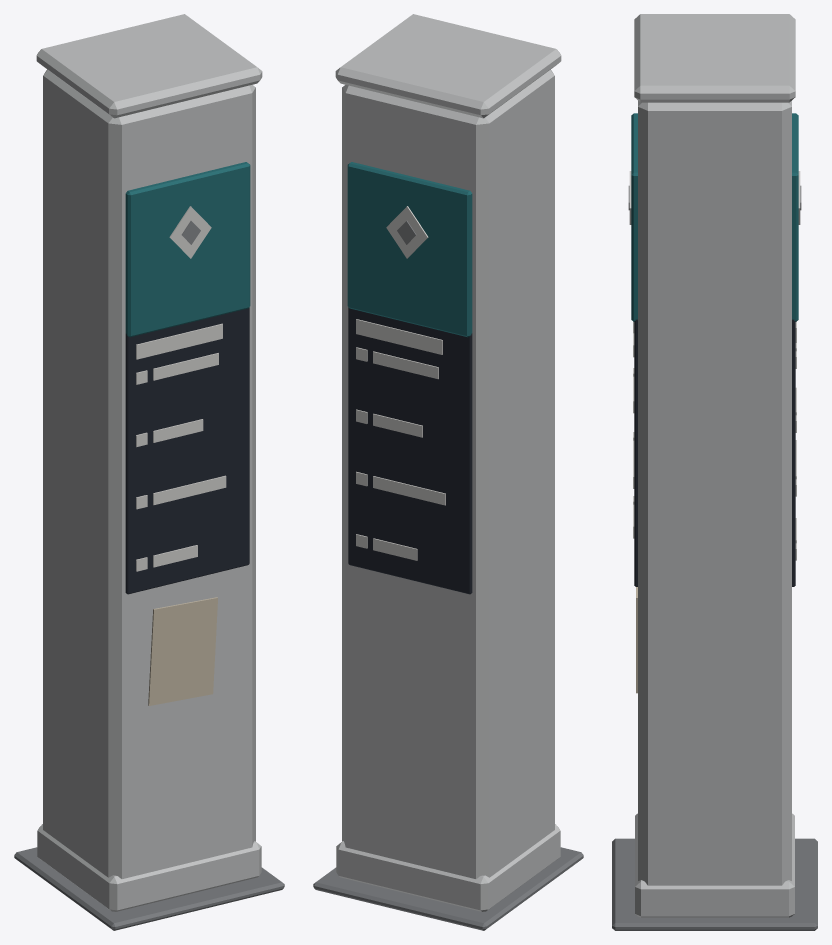
File: office-directory-totem-619d45.glb
The picture shows the model from 3 angles, left to right: view 1: azimuth 30°, elevation 25°; view 2: azimuth 150°, elevation 25°; view 3: azimuth 270°, elevation 25°; orthographic projection. The views are drawn at different scales.
Parts seen in each view (by area): view 1: totem; view 2: totem; view 3: totem.
Part boxes in pixels (bbox=[...]): totem: bbox=[14, 14, 284, 930]; totem: bbox=[313, 14, 583, 930]; totem: bbox=[612, 14, 817, 930].
Size of the model in its own units: 0.4 by 1.8 by 0.4.
